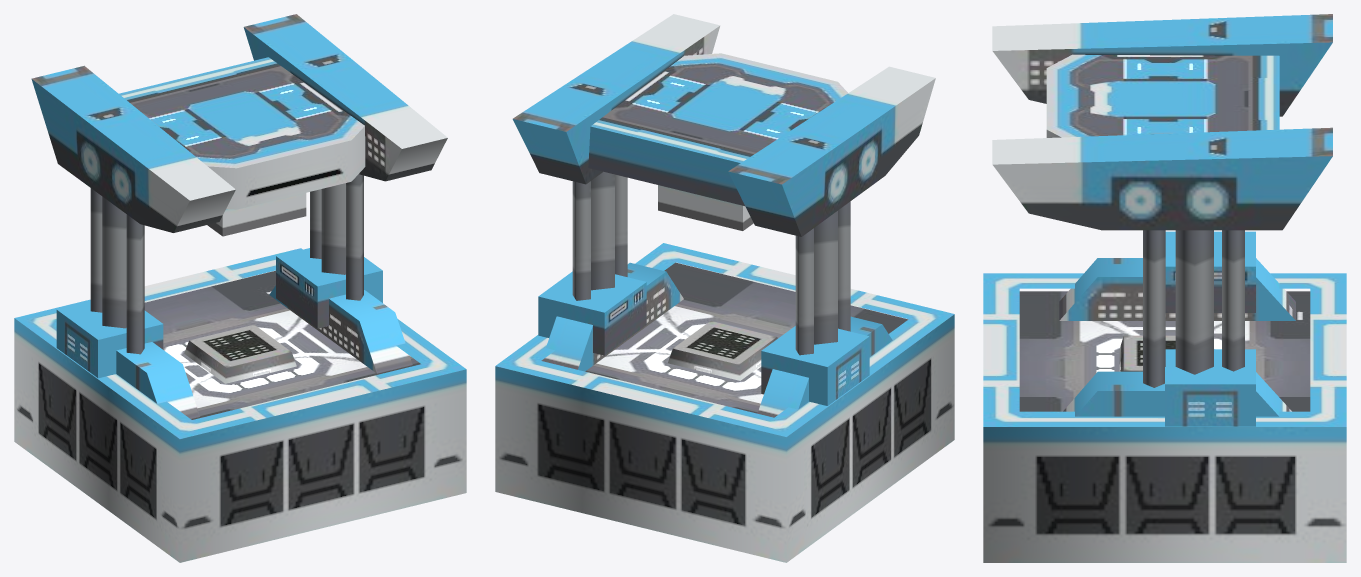
3 renders of one model, left to right at view 1: azimuth 30°, elevation 25°; view 2: azimuth 150°, elevation 25°; view 3: azimuth 270°, elevation 25°, orthographic. The views are drawn at different scales.
Visible parts, largest first — view 1: assembler-mk-3-lod2; view 2: assembler-mk-3-lod2; view 3: assembler-mk-3-lod2.
Part boxes in pixels (x1,y1,x2,y2): assembler-mk-3-lod2: (14, 14, 466, 562); assembler-mk-3-lod2: (495, 14, 954, 562); assembler-mk-3-lod2: (983, 14, 1346, 562).
Size of the model in its own units: 4 by 4.87 by 4.
1 material, 1 textured.
